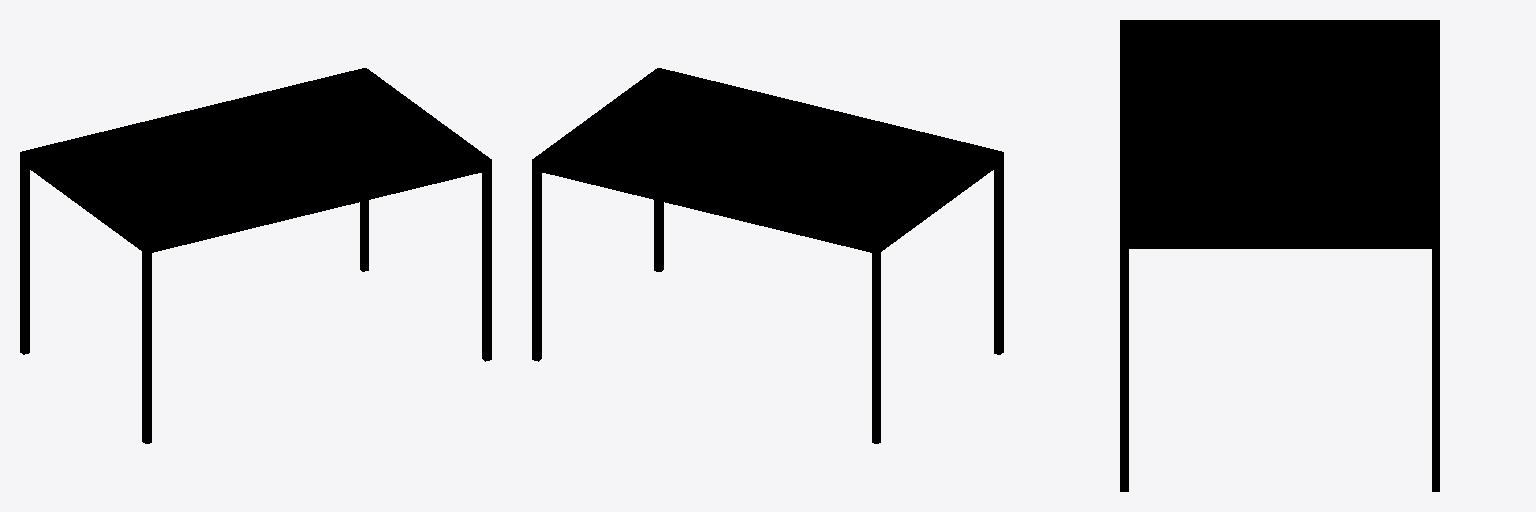
URDF robot description (IKEA_table_TORSBY):
<?xml version="1.0"?>
<robot name="IKEA_table_TORSBY">
<link name="IKEA_table_TORSBY">
    <visual>
      <geometry>
        <mesh filename="package://laas_objects/res/obj/table.obj"/>
      </geometry>
      <origin rpy="1.57075 0 0" xyz="0 0 0"/>
      <material name="black">
        <color rgba="0 0 0 1"/>
      </material>
    </visual>

    <collision>
      <geometry>
      <box size="1.40 0.90 0.04"/>
      </geometry>
      <origin rpy="0 0 0" xyz="0 0 0.355"/>
       <contact_coefficients mu="1000.0" kp="0.00" kd="0.0"/>
    </collision>

    <collision>
      <geometry>
      <box size="0.025 0.025 0.75"/>
      </geometry>
      <origin rpy="0 0 0" xyz="0.675 0.425 0"/>
      <contact_coefficients mu="1000.0" kp="0.00" kd="0.0"/>
    </collision>
    <collision>
      <geometry>
      <box size="0.025 0.025 0.75"/>
      </geometry>
      <origin rpy="0 0 0" xyz="0.675 -0.425 0"/>
      <contact_coefficients mu="1000.0" kp="0.00" kd="0.0"/>
    </collision>
    <collision>
      <geometry>
      <box size="0.025 0.025 0.75"/>
      </geometry>
      <origin rpy="0 0 0" xyz="-0.675 0.425 0"/>
      <contact_coefficients mu="1000.0" kp="0.00" kd="0.0"/>
    </collision>
    <collision>
      <geometry>
      <box size="0.025 0.025 0.75"/>
      </geometry>
      <origin rpy="0 0 0" xyz="-0.675 -0.425 0"/>
      <contact_coefficients mu="1000.0" kp="0.00" kd="0.0"/>
    </collision>
   
    <inertial>
      <mass value="60.0"/>
      <inertia ixx="0.001" ixy="0.0" ixz="0.0" iyy="0.001" iyz="0.0" izz="0.001"/>
    </inertial>
</link>

</robot>

--- What the picture shows (computed from the rendered views, not written in the file) ---
The picture shows the robot from 3 angles, left to right: view 1: azimuth 30°, elevation 25°; view 2: azimuth 150°, elevation 25°; view 3: azimuth 270°, elevation 25°; orthographic projection.
Robot: IKEA_table_TORSBY — 1 links, 0 joints (none); root link IKEA_table_TORSBY; default pose: all joints at 0.
Links seen in each view (by area): view 1: IKEA_table_TORSBY; view 2: IKEA_table_TORSBY; view 3: IKEA_table_TORSBY.
Boxes of the visible links, box(x1,y1,x2,y2) form: IKEA_table_TORSBY: box(20, 68, 491, 443); IKEA_table_TORSBY: box(532, 68, 1003, 443); IKEA_table_TORSBY: box(1120, 20, 1439, 491).
Bounding box of the posed robot: 1.35 × 0.85 × 0.75 m (x, y, z).
Meshes: 1 distinct files referenced, 1 mesh visuals loaded (1 OBJ).
